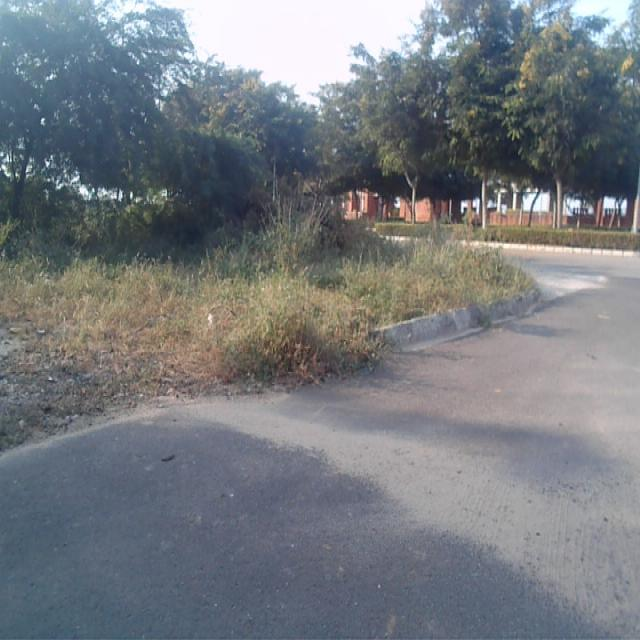lane: (0, 294, 640, 640)
